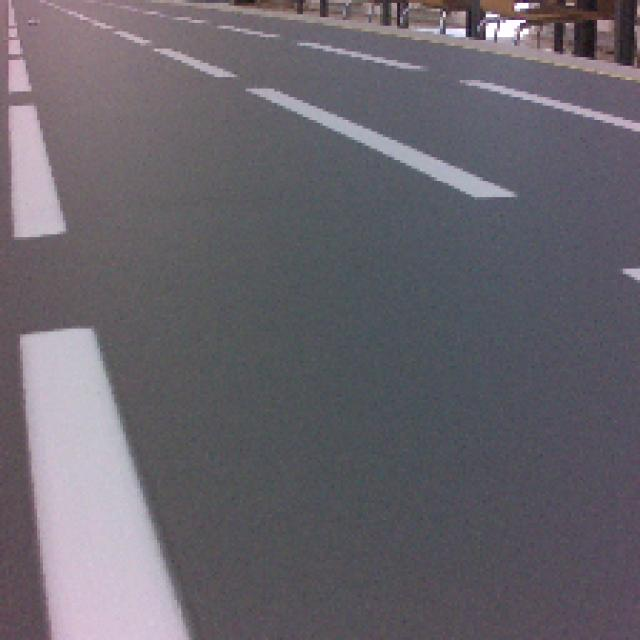Road: (96, 266, 640, 635)
